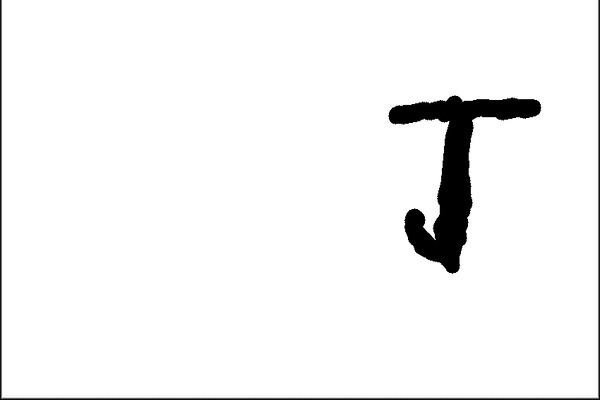J: (378, 84, 547, 282)
